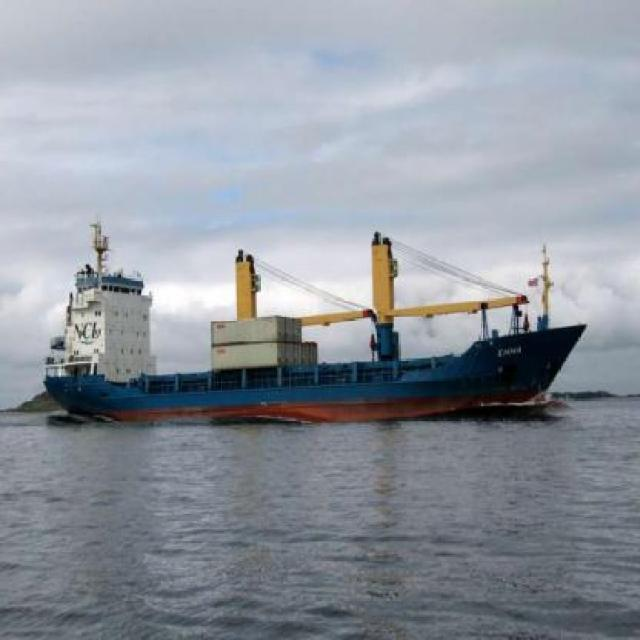ship: (25, 272, 588, 428)
